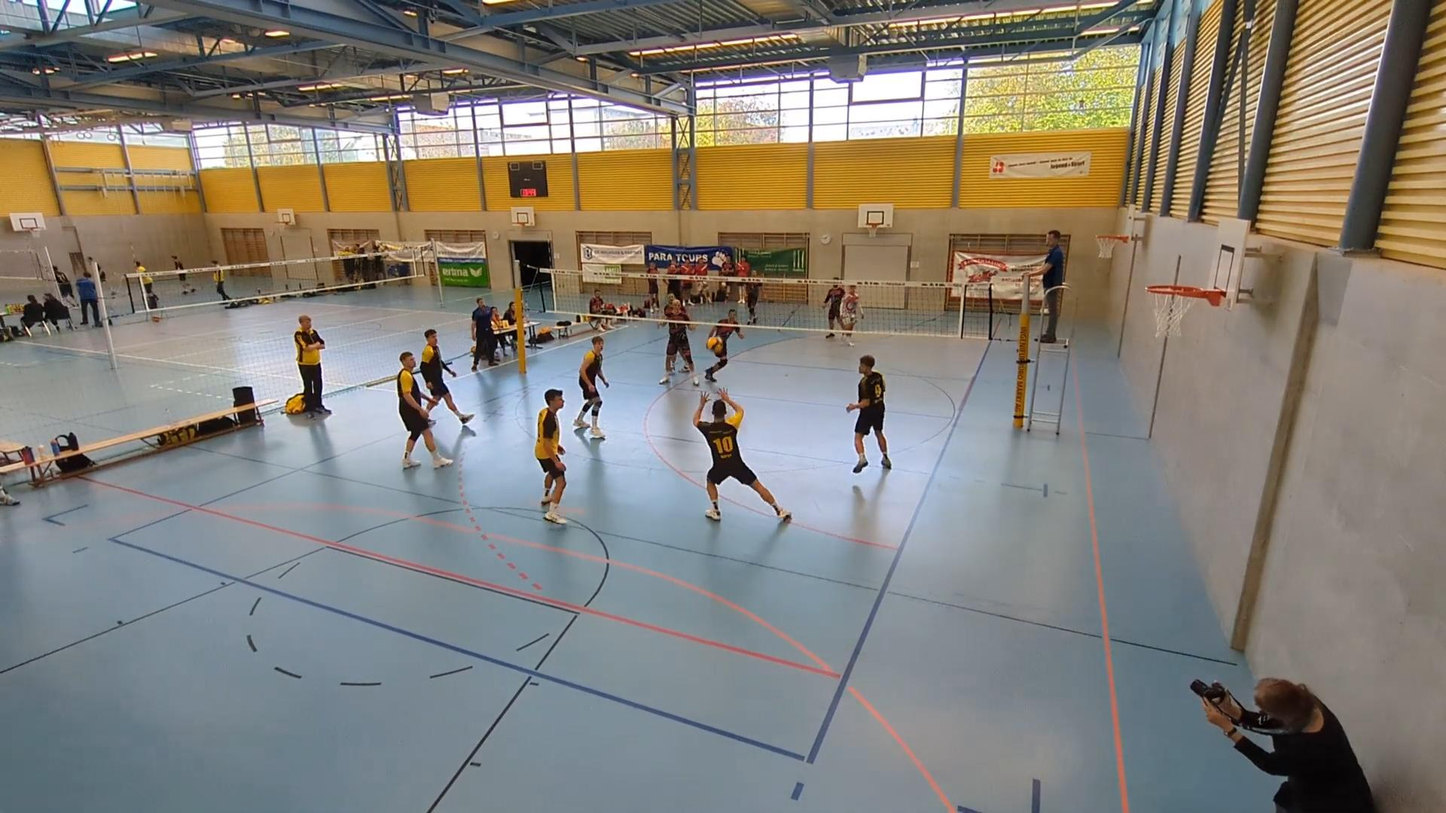Player: (693, 389, 791, 521), (396, 352, 452, 468), (847, 355, 891, 473), (421, 329, 474, 424), (535, 388, 566, 524), (573, 336, 609, 439), (659, 297, 698, 385), (704, 309, 743, 382), (837, 285, 862, 346), (825, 281, 845, 337), (743, 275, 763, 325)
Receive: (683, 385, 792, 526)
ball: (706, 340, 725, 351)
